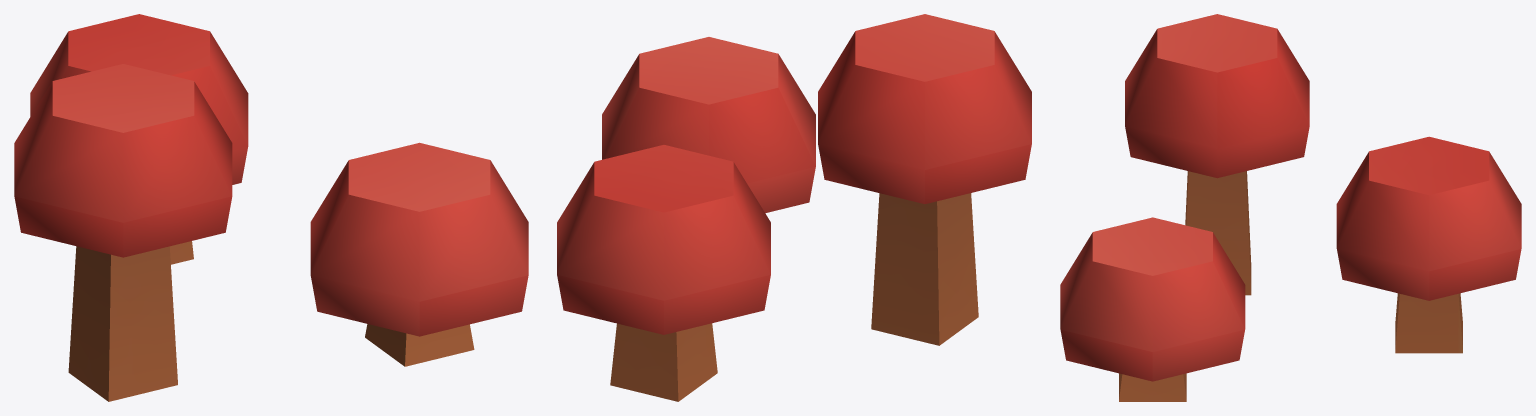
File: mushrooms.glb
3 renders of one model, left to right at view 1: azimuth 30°, elevation 25°; view 2: azimuth 150°, elevation 25°; view 3: azimuth 270°, elevation 25°, orthographic. The views are drawn at different scales.
Visible parts, largest first — view 1: mushrooms; view 2: mushrooms; view 3: mushrooms.
Part boxes in pixels (<box>): mushrooms: <box>14,14,528,401</box>; mushrooms: <box>557,14,1031,401</box>; mushrooms: <box>1060,14,1521,401</box>.
Size of the model in its own units: 0.5242 by 0.295 by 0.5188.
1 material, 1 textured.
